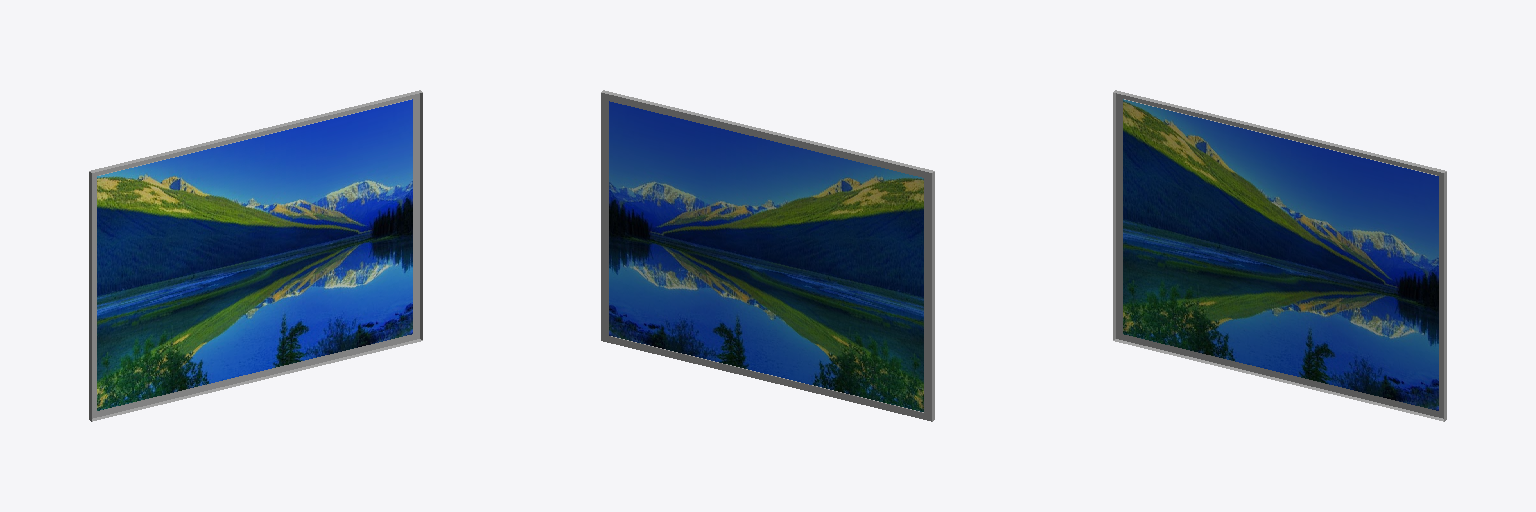
3 renders of one model, left to right at view 1: azimuth 30°, elevation 25°; view 2: azimuth 150°, elevation 25°; view 3: azimuth 330°, elevation 25°, orthographic.
Visible parts, largest first — view 1: pCube23; view 2: pCube23; view 3: pCube23.
Boxes of the visible parts, box(x1,y1,x2,y2) form: pCube23: box(89, 90, 422, 421); pCube23: box(601, 90, 934, 421); pCube23: box(1113, 90, 1446, 421).
Bounding box in the file's own units: 13.96 × 9.99 × 0.2141.
1 materials, 1 textured.